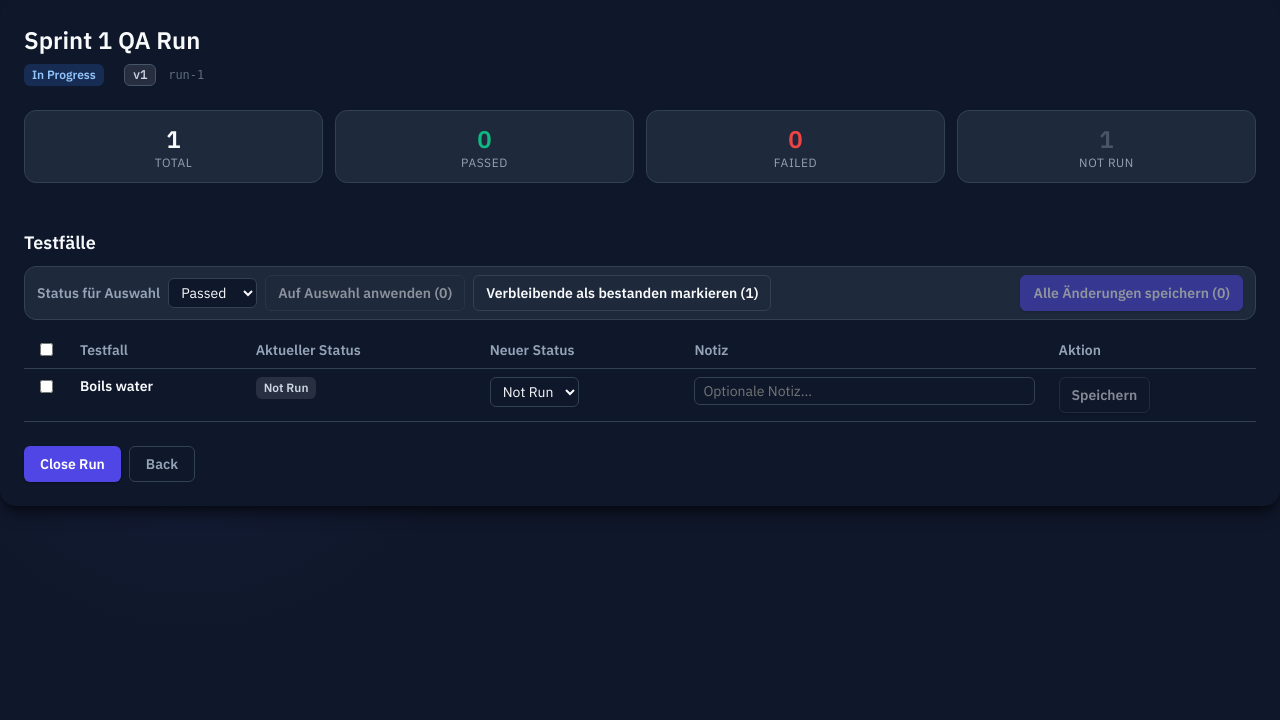
TestRunDetailEditor result entry (UI-04) › reports a failed post-write refresh instead of leaving a stale badge
The width and height of the screenshot is (1280, 720).
Select "Passed" in the dropdown with test id "testrun-result-status-select-res-1": (534,392) [490,377,579,407]
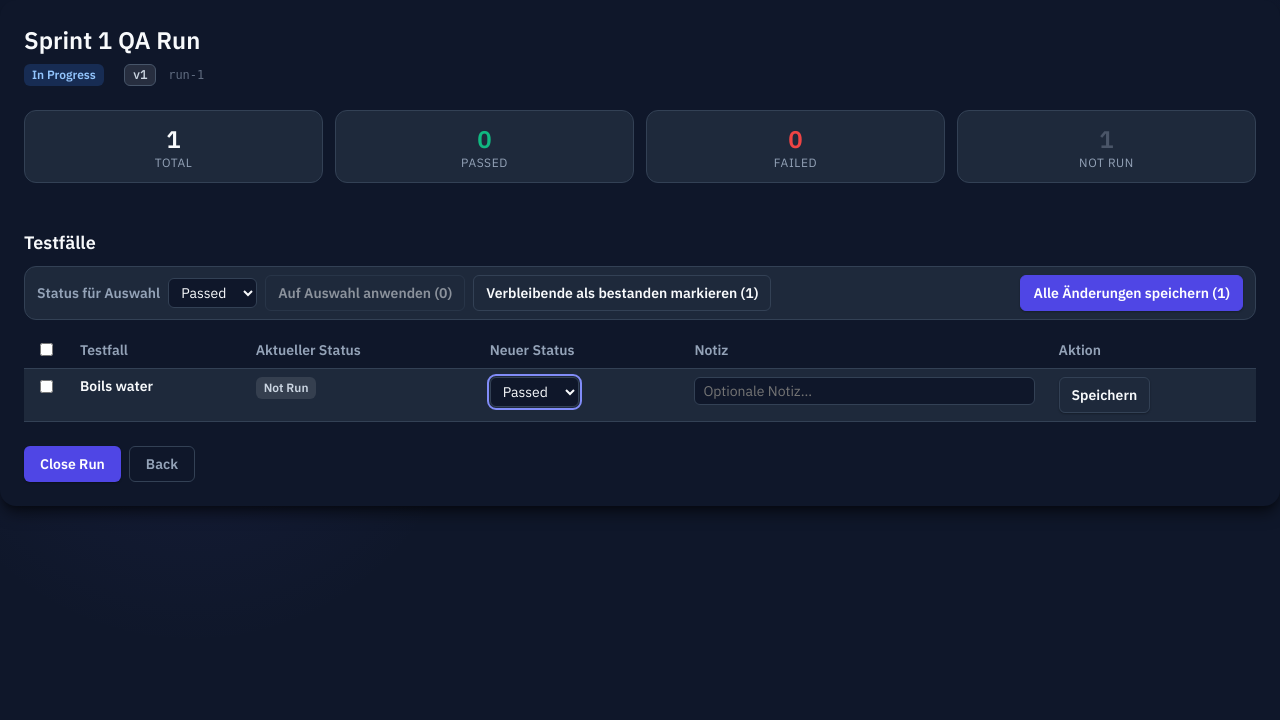
Click the button with test id "testrun-result-save-res-1": (1104,395) [1058,377,1150,413]
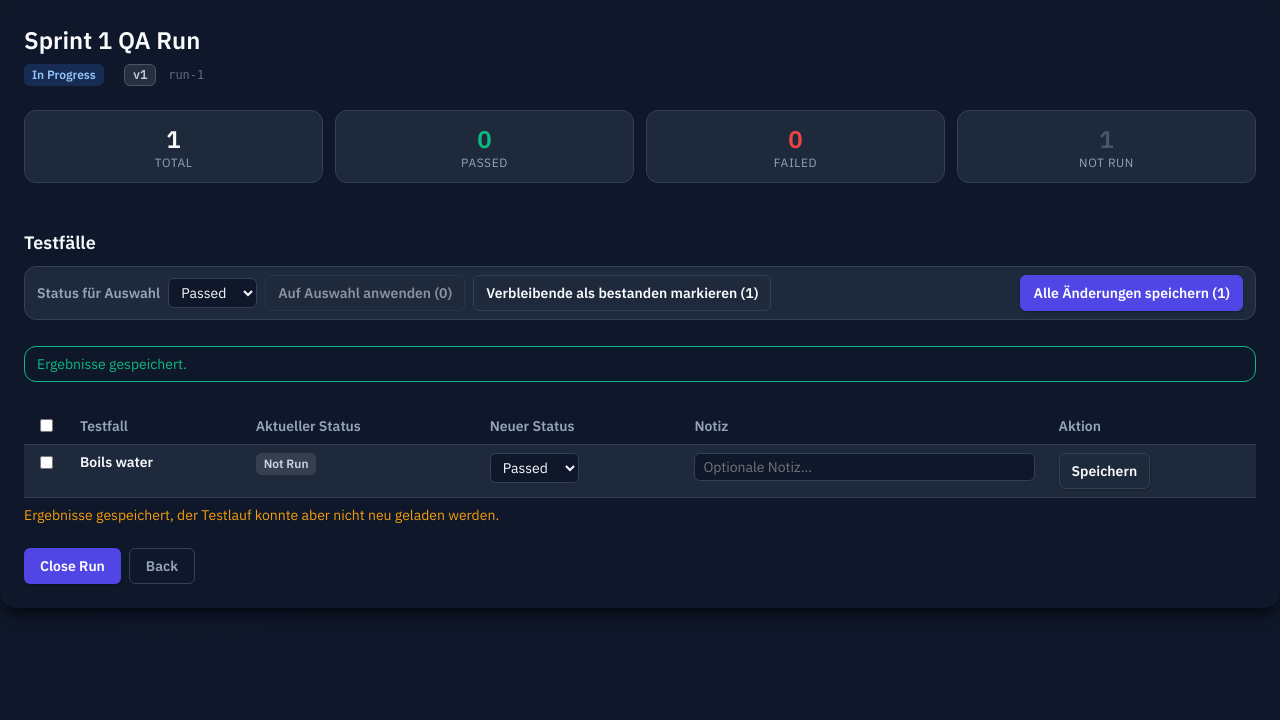
Expected: the message "Ergebnisse gespeichert, der Testlauf konnte aber nicht neu geladen werden." is shown, [24,506,499,524]
